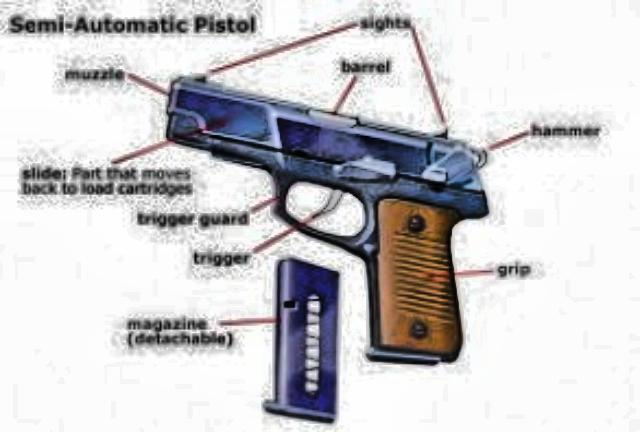pistol: (151, 70, 489, 372)
